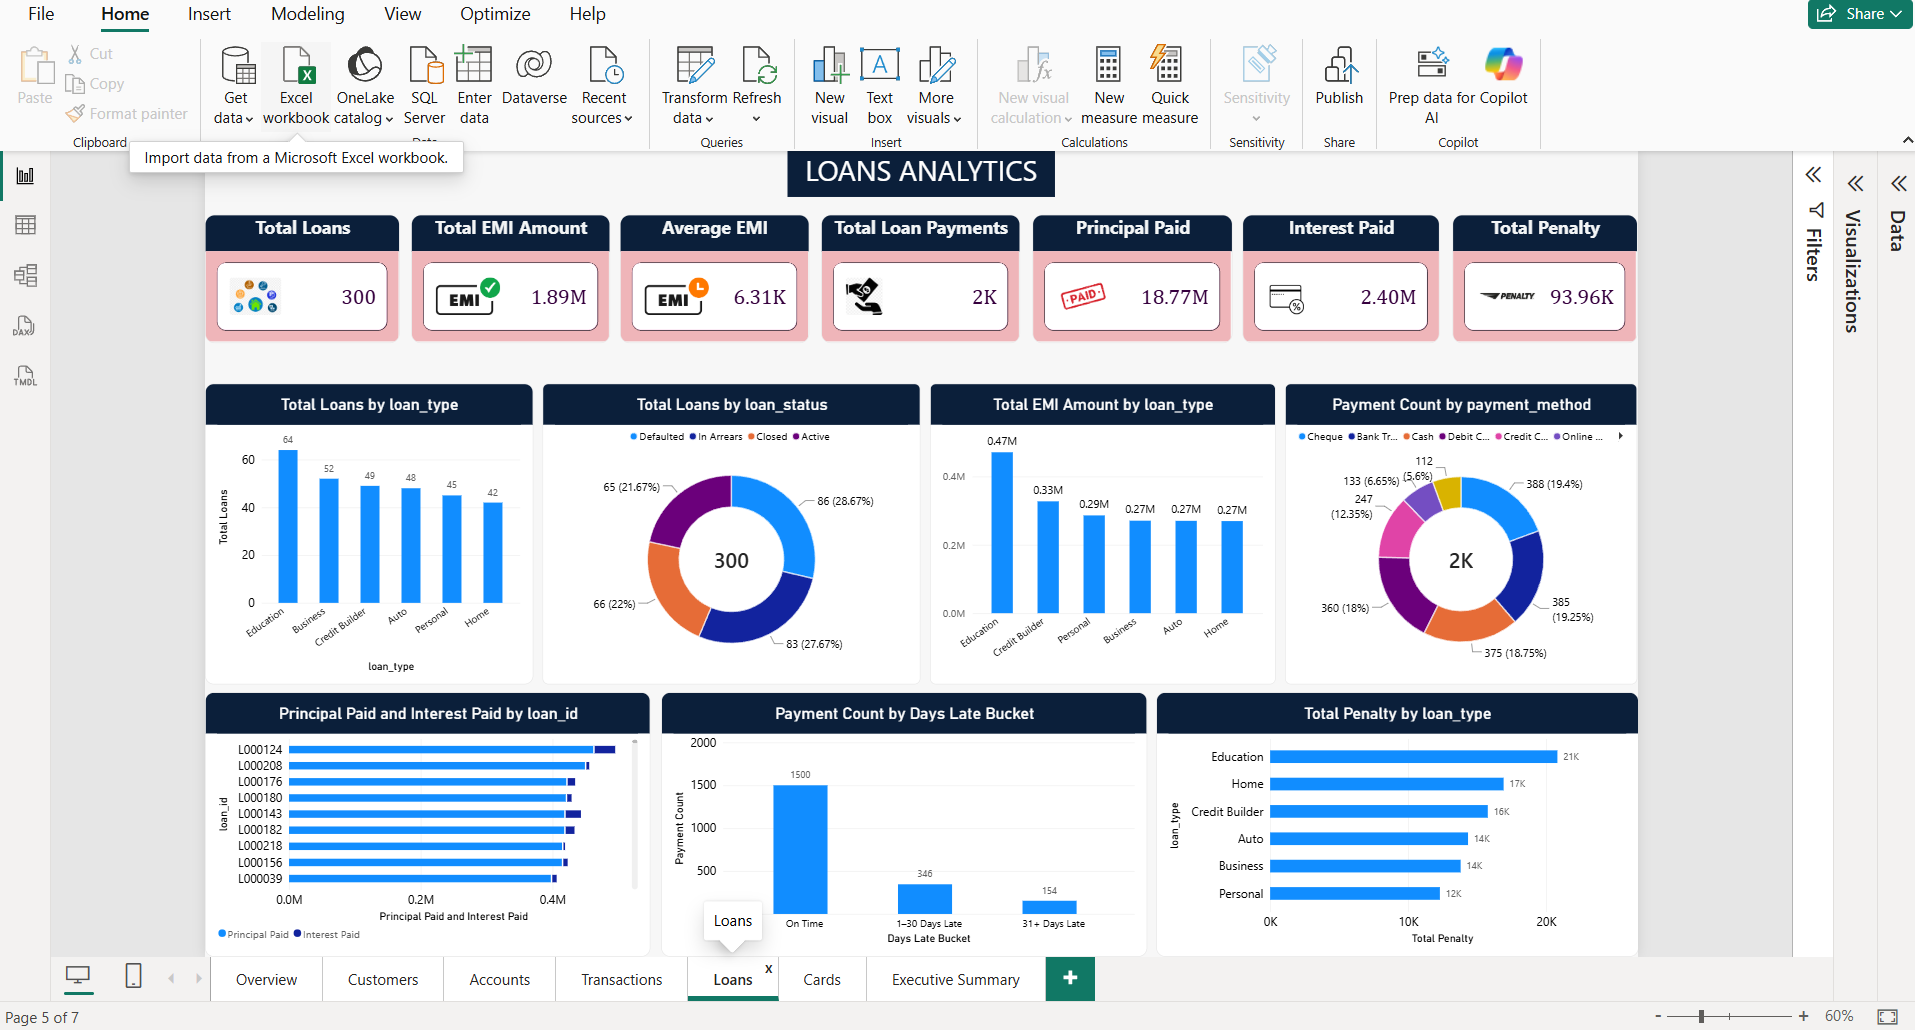

What the dashboard file says about the page in this screenshot:
{"tool":"powerbi","page":{"name":"Loans","canvas":[1920,1080],"ordinal":4},"visuals":[{"type":"textbox","box":[780,0,358.3,61.5],"z":0},{"type":"cardVisual","title":"Total Loans","fields":{"Data":["loans.Total Loans"]},"box":[0,85.1,260.6,171.9],"z":1000},{"type":"cardVisual","title":"Total EMI Amount","fields":{"Data":["loans.Total EMI Amount"]},"box":[276.9,85.1,266,171.9],"z":2000},{"type":"cardVisual","title":"Average EMI","fields":{"Data":["loans.Average EMI"]},"box":[555.6,85.1,253.4,171.9],"z":3000},{"type":"cardVisual","title":"Total Loan Payments","fields":{"Data":["loans.Total Loan Payments"]},"box":[825.2,85.1,266,171.9],"z":4000},{"type":"cardVisual","title":"Principal Paid","fields":{"Data":["loans.Principal Paid"]},"box":[1109.3,85.1,267.8,171.9],"z":5000},{"type":"cardVisual","title":"Interest Paid","fields":{"Data":["loans.Interest Paid"]},"box":[1389.8,85.1,264.2,171.9],"z":6000},{"type":"cardVisual","title":"Total Penalty","fields":{"Data":["loans.Total Penalty"]},"box":[1672.1,85.1,247.9,171.9],"z":7000},{"type":"clusteredColumnChart","fields":{"Category":["loans.loan_type"],"Y":["loans.Total Loans"]},"box":[0,311.3,439.7,403.6],"z":8000},{"type":"donutChart","fields":{"Category":["loans.loan_status"],"Y":["loans.Total Loans"]},"box":[452.4,311.3,506.7,403.6],"z":9000},{"type":"clusteredColumnChart","fields":{"Category":["loans.loan_type"],"Y":["loans.Total EMI Amount"]},"box":[971.8,311.3,463.3,403.6],"z":10000},{"type":"barChart","fields":{"Category":["loans.loan_id"],"Y":["loans.Principal Paid","loans.Interest Paid"]},"box":[0,725.7,597.2,354.7],"z":11000},{"type":"clusteredColumnChart","fields":{"Category":["loan_payments.Days Late Bucket"],"Y":["loan_payments.Payment Count"]},"box":[611.7,725.7,651.5,354.7],"z":12000},{"type":"clusteredBarChart","fields":{"Category":["loans.loan_type"],"Y":["loans.Total Penalty"]},"box":[1274,725.7,646,354.7],"z":13000},{"type":"donutChart","fields":{"Category":["loan_payments.payment_method"],"Y":["loan_payments.Payment Count"]},"box":[1447.7,311.3,472.3,403.6],"z":14000}]}

Visuals, with their boxes on the page's 1920x1080 design canvas (x1, y1, x2, y2). These are canvas units, not pixel positions in the 1915x1030 screenshot, which may show the page scaled, cropped or inside an application window:
textbox: 780/0/1138/62
"Total Loans" cardVisual: 0/85/261/257
"Total EMI Amount" cardVisual: 277/85/543/257
"Average EMI" cardVisual: 556/85/809/257
"Total Loan Payments" cardVisual: 825/85/1091/257
"Principal Paid" cardVisual: 1109/85/1377/257
"Interest Paid" cardVisual: 1390/85/1654/257
"Total Penalty" cardVisual: 1672/85/1920/257
clusteredColumnChart - loans.loan_type x loans.Total Loans: 0/311/440/715
donutChart - loans.loan_status x loans.Total Loans: 452/311/959/715
clusteredColumnChart - loans.loan_type x loans.Total EMI Amount: 972/311/1435/715
barChart - loans.loan_id x loans.Principal Paid: 0/726/597/1080
clusteredColumnChart - loan_payments.Days Late Bucket x loan_payments.Payment Count: 612/726/1263/1080
clusteredBarChart - loans.loan_type x loans.Total Penalty: 1274/726/1920/1080
donutChart - loan_payments.payment_method x loan_payments.Payment Count: 1448/311/1920/715
